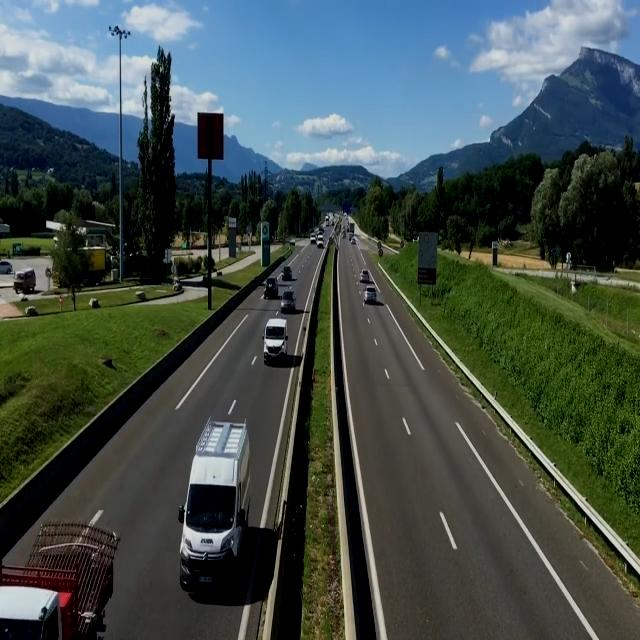Car: (280, 289, 296, 315), (264, 277, 278, 301), (363, 285, 376, 306), (282, 265, 294, 282), (358, 270, 372, 282), (316, 234, 327, 248), (310, 232, 317, 246)
Van: (178, 417, 258, 600), (262, 319, 288, 365)
